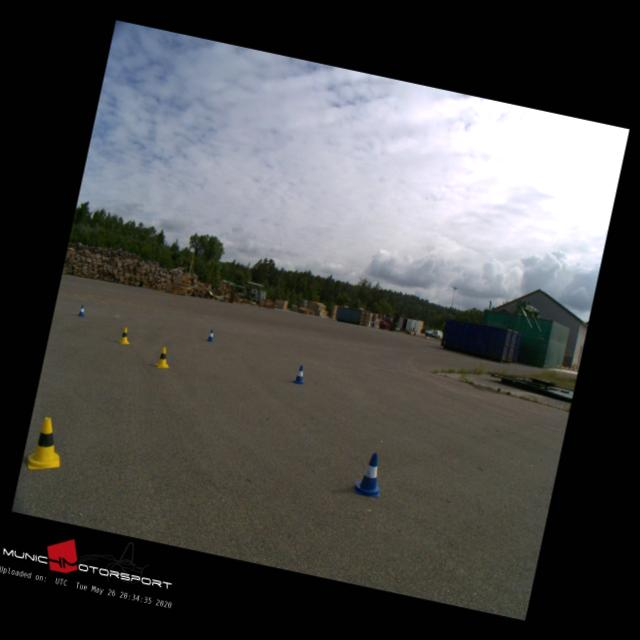blue_cone: (352, 449, 387, 497), (292, 364, 307, 383), (206, 328, 216, 342), (76, 304, 86, 316)
yellow_cone: (25, 414, 69, 474), (154, 346, 172, 368), (118, 326, 132, 345)
